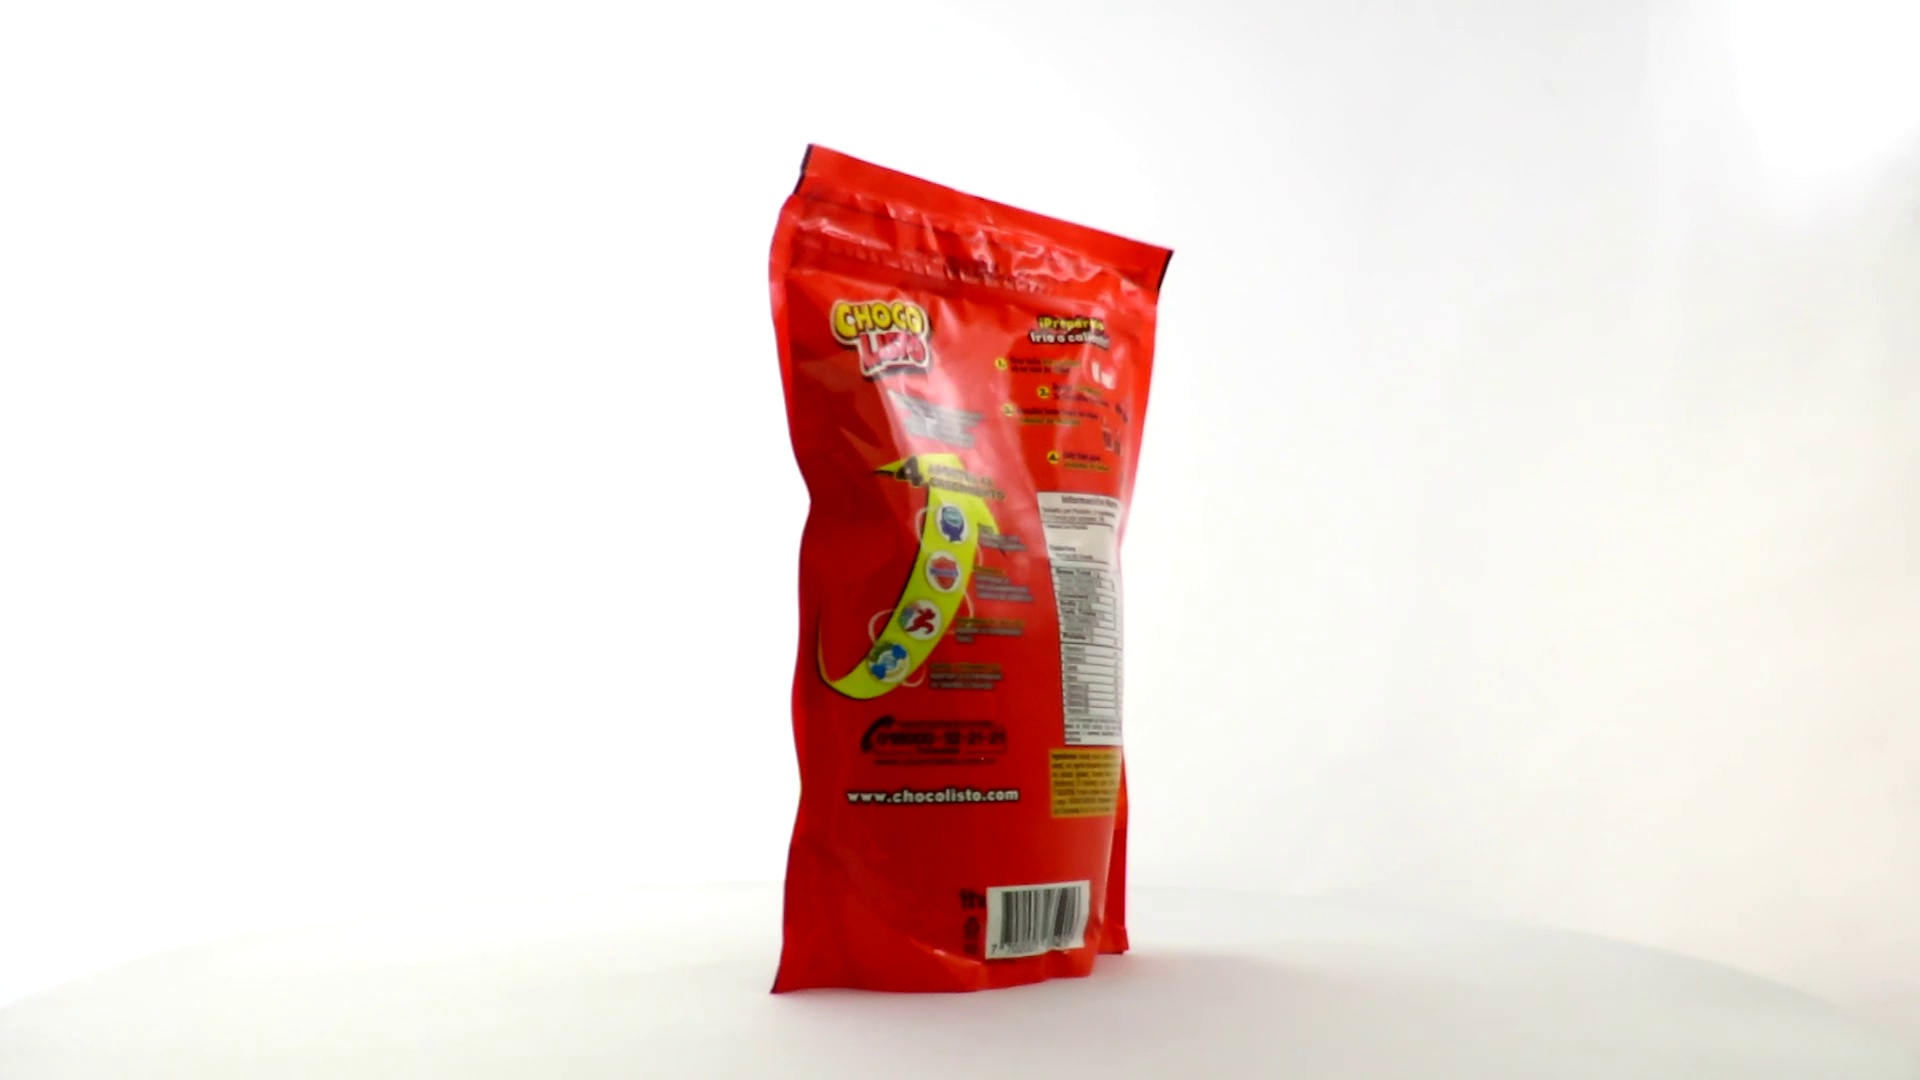COL0170103DYP36000: (764, 138, 1180, 1001)
